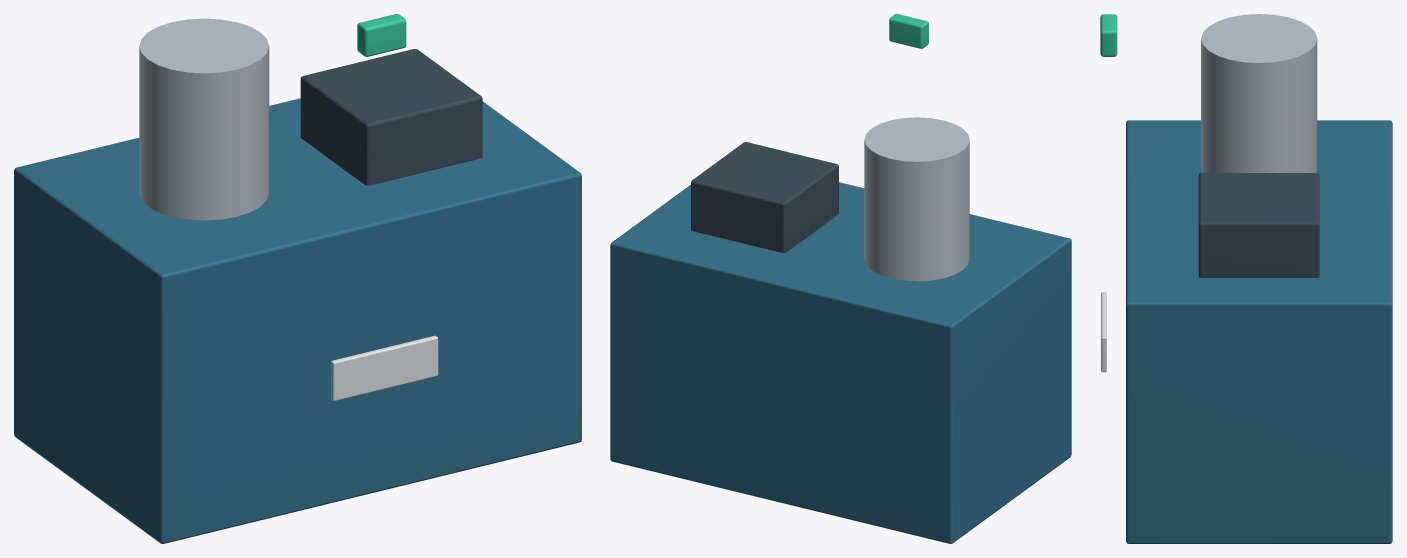
Rendered from Equipment_HPU.fbx.
3 renders of one model, left to right at view 1: azimuth 30°, elevation 25°; view 2: azimuth 150°, elevation 25°; view 3: azimuth 270°, elevation 25°, orthographic. The views are drawn at different scales.
Parts seen in each view (by area): view 1: Tank, Motor, Pump, BlankNameplate_HPU, StatusLens_HPU; view 2: Tank, Motor, Pump, StatusLens_HPU; view 3: Tank, Motor, Pump, StatusLens_HPU, BlankNameplate_HPU.
Boxes of the visible parts, bbox=[...] form: Tank: bbox=[14, 98, 581, 543]; Motor: bbox=[139, 18, 269, 220]; Pump: bbox=[300, 49, 482, 185]; BlankNameplate_HPU: bbox=[331, 335, 438, 401]; StatusLens_HPU: bbox=[357, 14, 406, 56]; Tank: bbox=[610, 182, 1071, 543]; Motor: bbox=[864, 117, 969, 281]; Pump: bbox=[691, 142, 838, 253]; StatusLens_HPU: bbox=[889, 14, 928, 48]; Tank: bbox=[1126, 120, 1392, 543]; Motor: bbox=[1201, 14, 1317, 172]; Pump: bbox=[1198, 173, 1319, 277]; StatusLens_HPU: bbox=[1100, 14, 1117, 56]; BlankNameplate_HPU: bbox=[1101, 292, 1106, 372].
Size of the model in its own units: 1.8 by 1.96 by 1.2.
